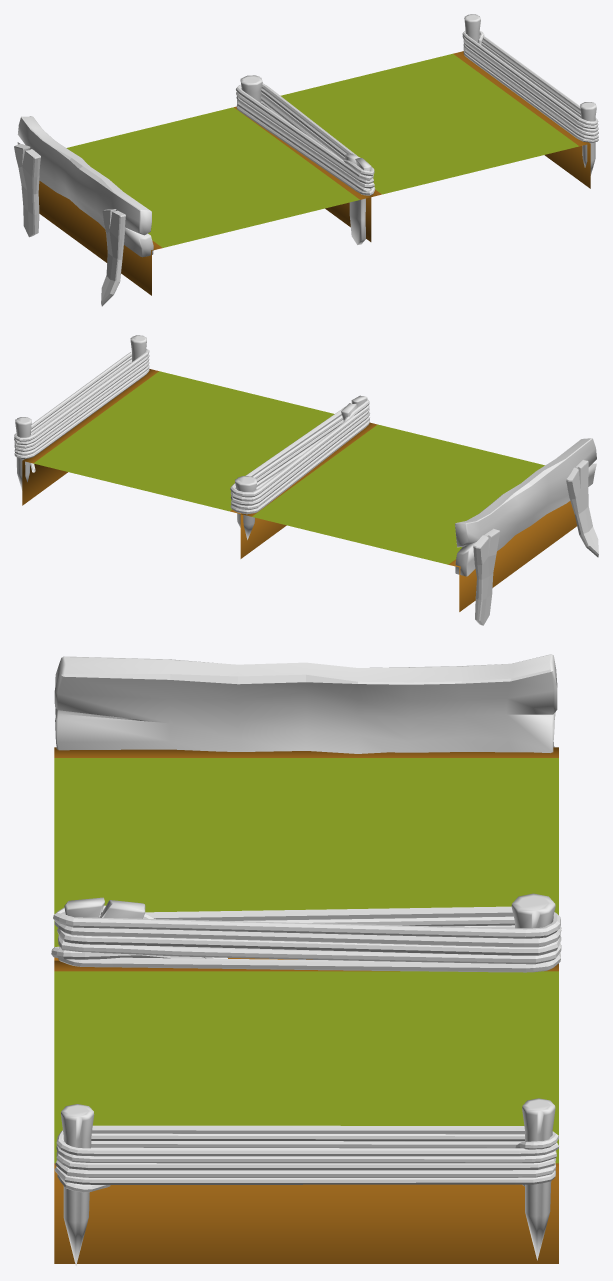
The model's file is Parallel_routes01.fbx.
The picture shows the model from 3 angles, top to bottom: view 1: azimuth 30°, elevation 25°; view 2: azimuth 150°, elevation 25°; view 3: azimuth 270°, elevation 25°; orthographic projection. The views are drawn at different scales.
Visible parts, largest first — view 1: Cylinder.001; view 2: Cylinder.001; view 3: Cylinder.001.
Part boxes in pixels (bbox=[...]): Cylinder.001: bbox=[14, 14, 598, 306]; Cylinder.001: bbox=[14, 335, 598, 625]; Cylinder.001: bbox=[51, 654, 561, 1265].
Bounding box in the file's own units: 441 × 96.31 × 202.
